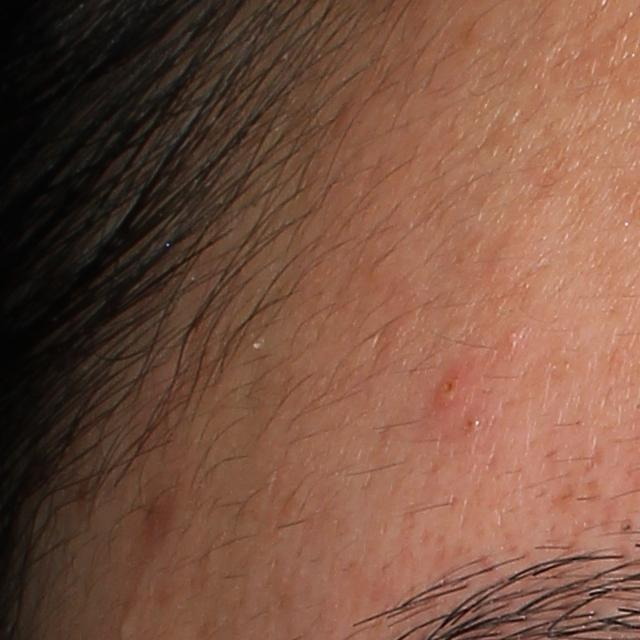papule: (433, 366, 468, 410)
